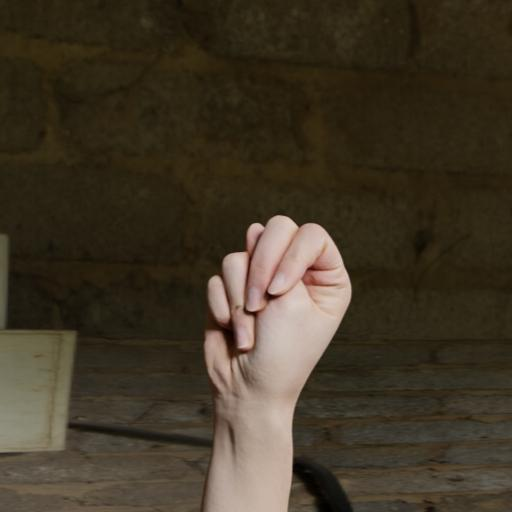N: (187, 206, 363, 512)
